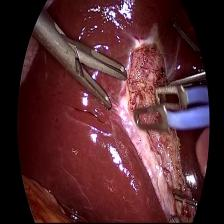Bipolar: (128, 83, 211, 132)
Grasper: (35, 11, 134, 129)
